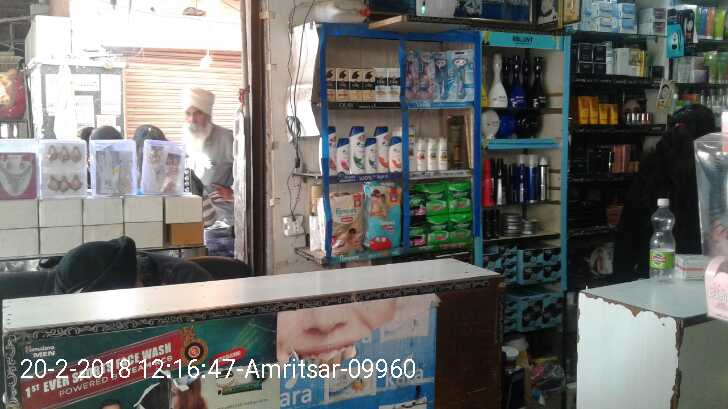venus: (449, 51, 474, 100), (434, 51, 449, 100), (419, 51, 434, 98), (408, 51, 419, 99)
